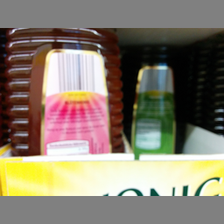honey: (6, 27, 126, 155), (126, 47, 193, 156)
